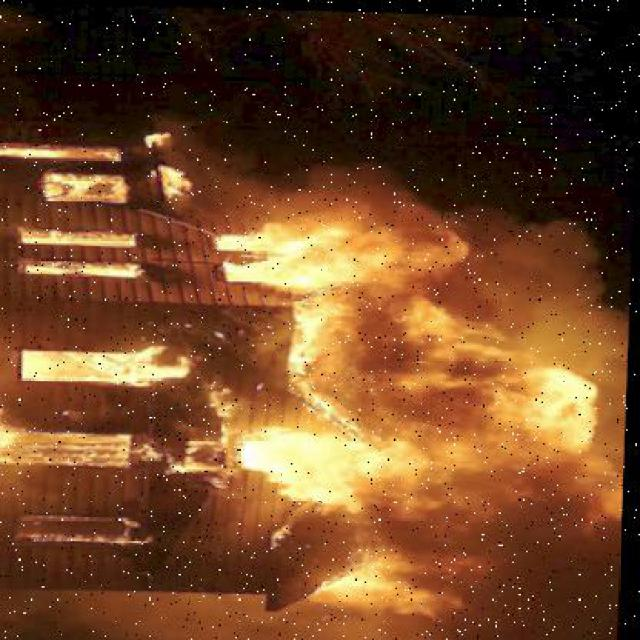fire: (246, 181, 634, 619)
